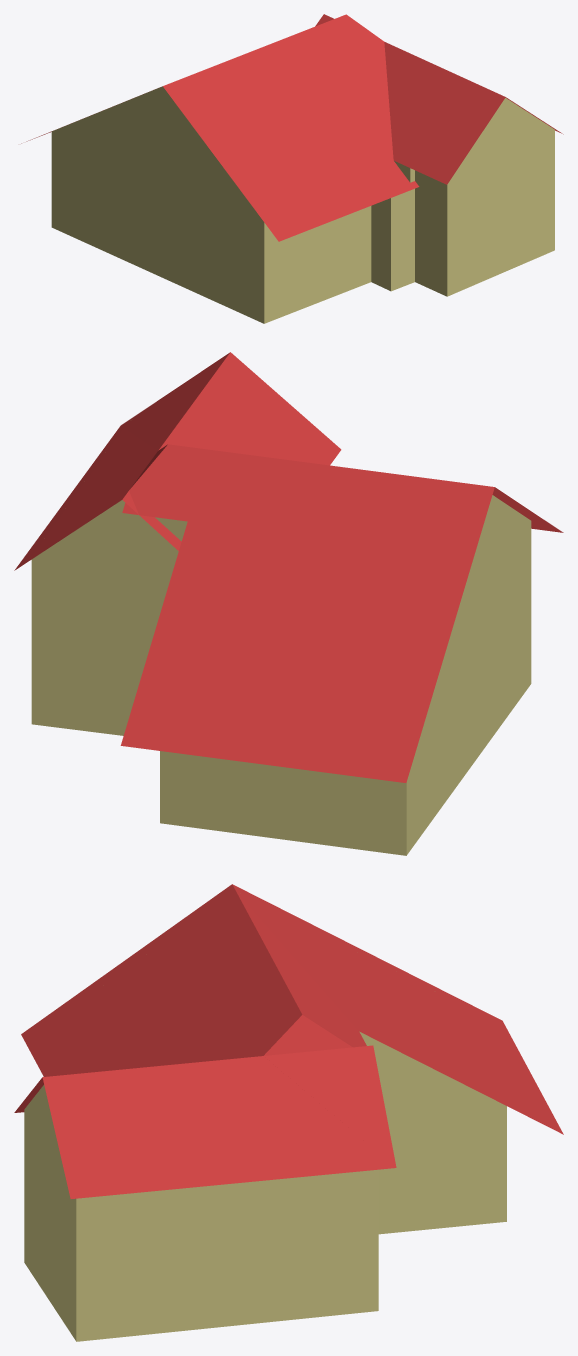
3 renders of one model, top to bottom at view 1: azimuth 30°, elevation 25°; view 2: azimuth 150°, elevation 25°; view 3: azimuth 270°, elevation 25°, orthographic. The views are drawn at different scales.
Size of the model in its own units: 33.71 by 33.4 by 16.97.
